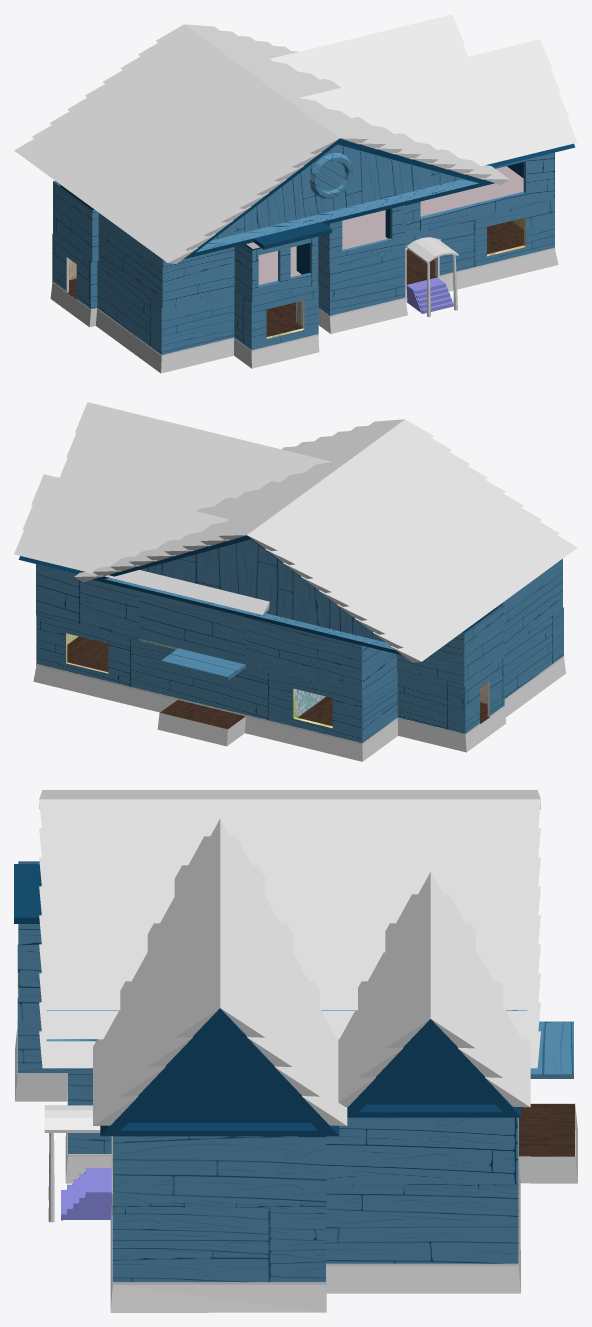
3 views of the same model, one above another, from view 1: azimuth 30°, elevation 25°; view 2: azimuth 150°, elevation 25°; view 3: azimuth 270°, elevation 25° (orthographic). The views are drawn at different scales.
Visible parts, largest first — view 1: map_roof_roof_0, map_floor_1_roof_outside_0, map_floor_1.001_outside_m_0, map_floor_1_outside_foundation_0, map_floor_1_roof_floor.001_0, map_floor_1.002_floor_0, map_floor_1.005_stairs__stairs_psd_0, map_floor_1.003_inside_m_0; view 2: map_roof_roof_0, map_floor_1_roof_outside_0, map_floor_1.001_outside_m_0, map_floor_1_outside_foundation_0, map_floor_1.002_floor_0, map_floor_1.003_inside_m_0; view 3: map_roof_roof_0, map_floor_1_roof_outside_0, map_floor_1.001_outside_m_0, map_floor_1_outside_foundation_0, map_floor_1.002_floor_0, map_floor_1.005_stairs__stairs_psd_0.
Boxes of the visible parts, bbox=[...] form: map_roof_roof_0: bbox=[14, 14, 577, 263]; map_floor_1_roof_outside_0: bbox=[53, 138, 575, 307]; map_floor_1.001_outside_m_0: bbox=[52, 200, 554, 354]; map_floor_1_outside_foundation_0: bbox=[50, 237, 558, 373]; map_floor_1_roof_floor.001_0: bbox=[246, 166, 523, 284]; map_floor_1.002_floor_0: bbox=[67, 221, 523, 336]; map_floor_1.005_stairs__stairs_psd_0: bbox=[406, 278, 453, 313]; map_floor_1.003_inside_m_0: bbox=[66, 217, 525, 338]; map_roof_roof_0: bbox=[14, 402, 577, 662]; map_floor_1_roof_outside_0: bbox=[18, 535, 562, 695]; map_floor_1.001_outside_m_0: bbox=[36, 607, 563, 743]; map_floor_1_outside_foundation_0: bbox=[33, 656, 565, 761]; map_floor_1.002_floor_0: bbox=[67, 636, 489, 729]; map_floor_1.003_inside_m_0: bbox=[66, 633, 489, 728]; map_roof_roof_0: bbox=[39, 790, 540, 1125]; map_floor_1_roof_outside_0: bbox=[14, 861, 573, 1207]; map_floor_1.001_outside_m_0: bbox=[17, 945, 518, 1282]; map_floor_1_outside_foundation_0: bbox=[15, 1021, 577, 1312]; map_floor_1.002_floor_0: bbox=[519, 1104, 574, 1156]; map_floor_1.005_stairs__stairs_psd_0: bbox=[61, 1168, 112, 1220].
Size of the model in its own units: 27.84 by 12.55 by 19.57.
Materials: 8 (4 with a texture image).
